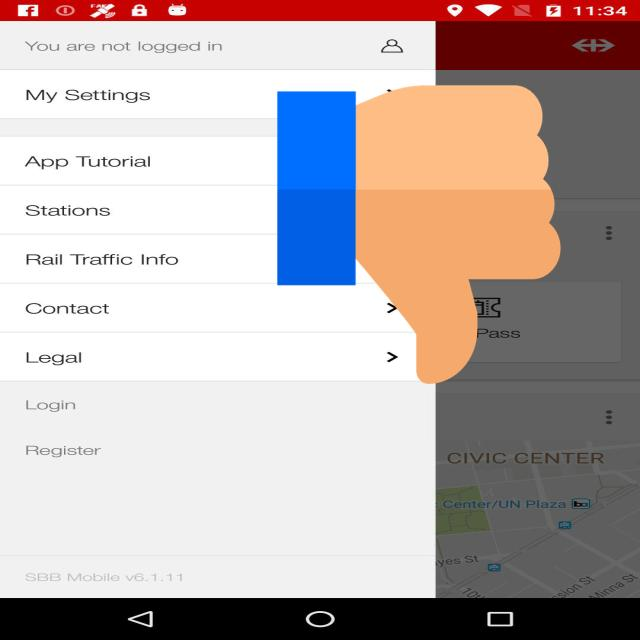obstruction: (277, 78, 561, 391)
